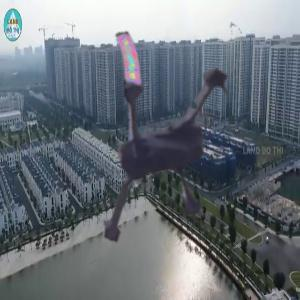drone: (32, 1, 284, 253)
